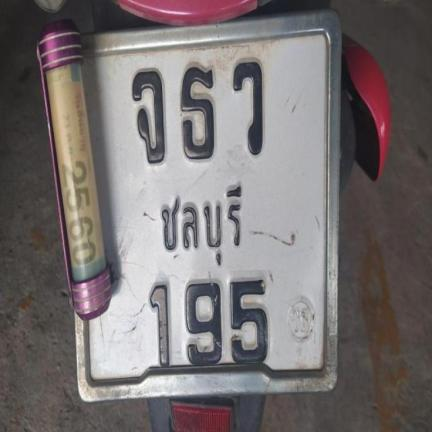1: (135, 278, 177, 370)
5: (228, 277, 273, 365)
9: (178, 277, 225, 367)
A08: (114, 59, 171, 168)
A24: (172, 58, 225, 165)
A37: (223, 54, 268, 157)
CBI: (146, 176, 258, 267)
